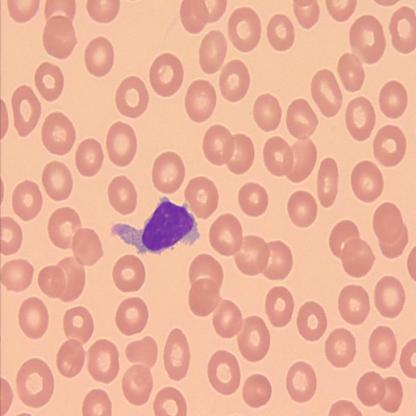Atypical lymphocyte: (110, 194, 200, 255)
